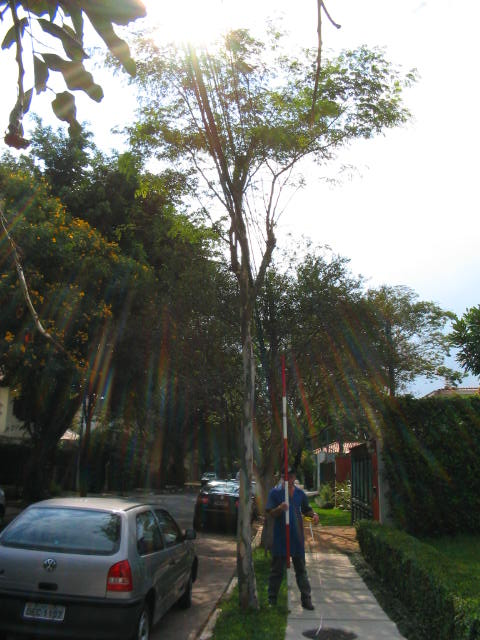crown: (103, 14, 420, 197)
stem: (219, 301, 266, 614)
stick: (275, 354, 305, 613)
tree: (101, 14, 421, 615)
